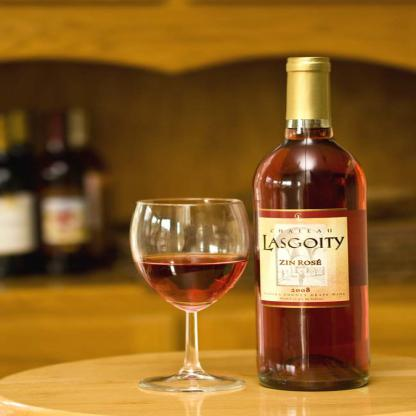drinking: (253, 57, 371, 392), (130, 198, 251, 393)
